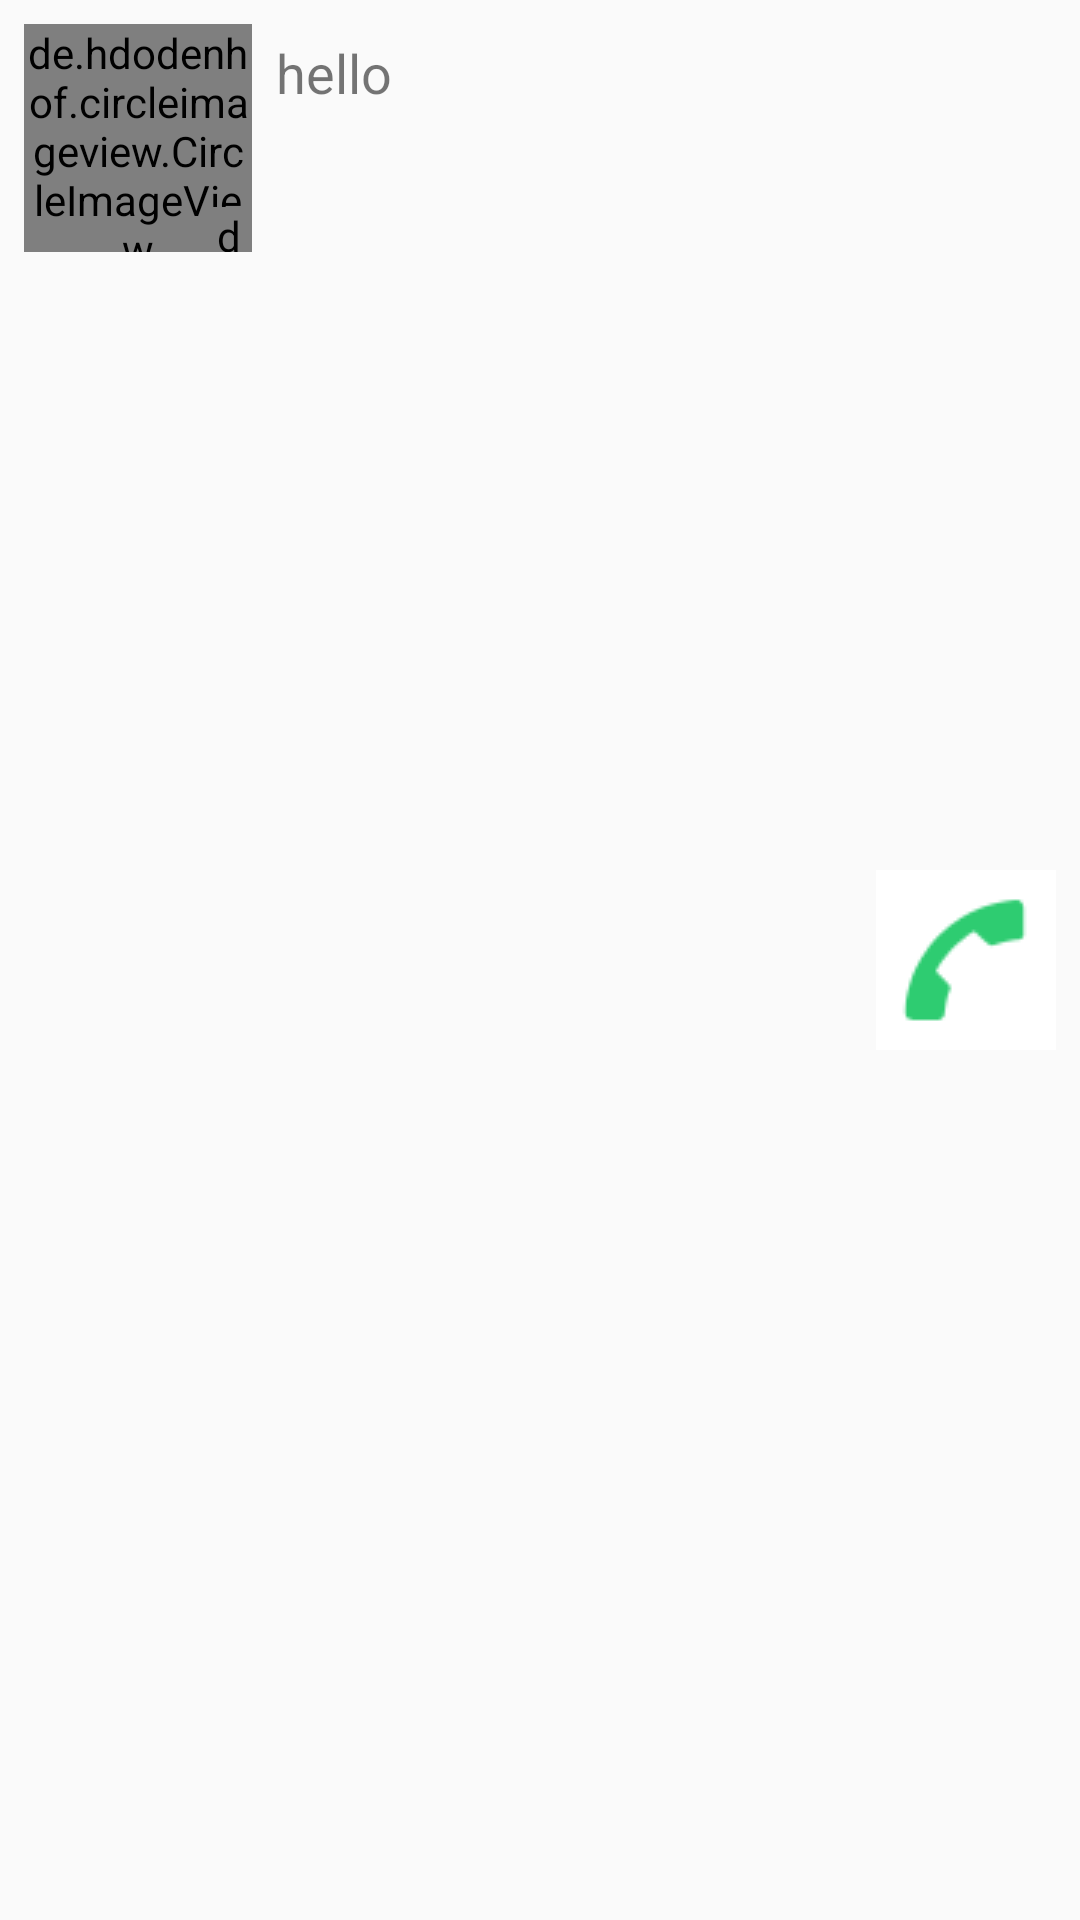

Named icons in this screenshot (1080px×1920px) and their centers, (x=x, y=y):
call: (x=964, y=960)
